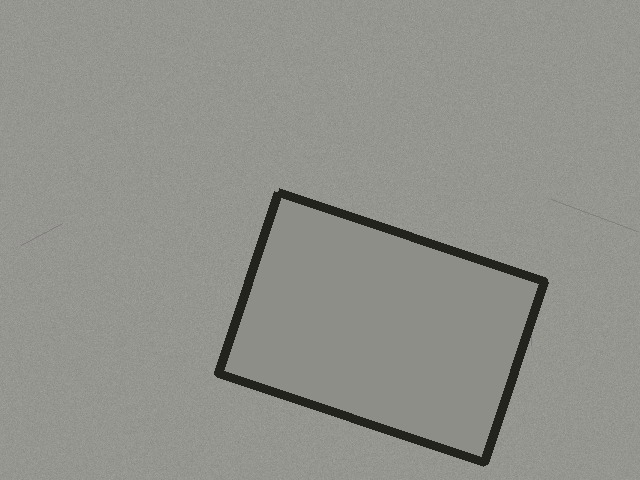parking_area: (218, 192, 544, 462)
